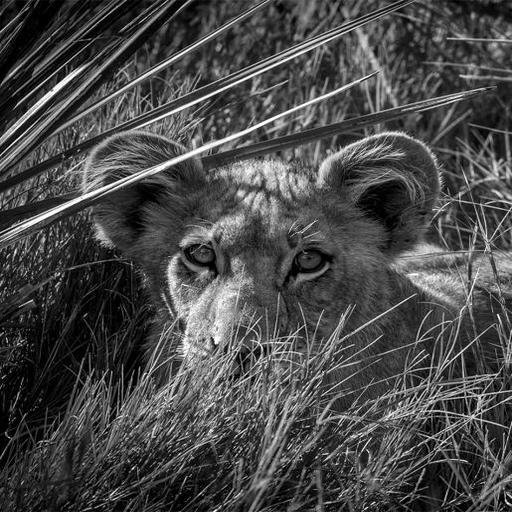Lion: (69, 114, 512, 465)
